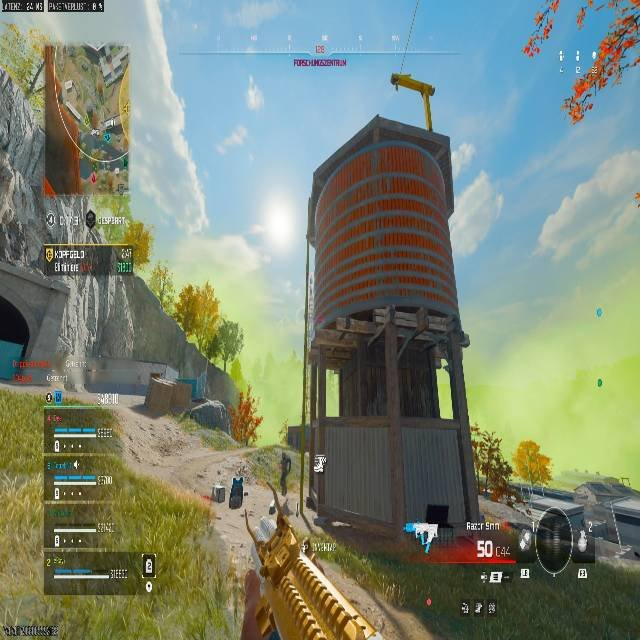player: (278, 453, 291, 494)
